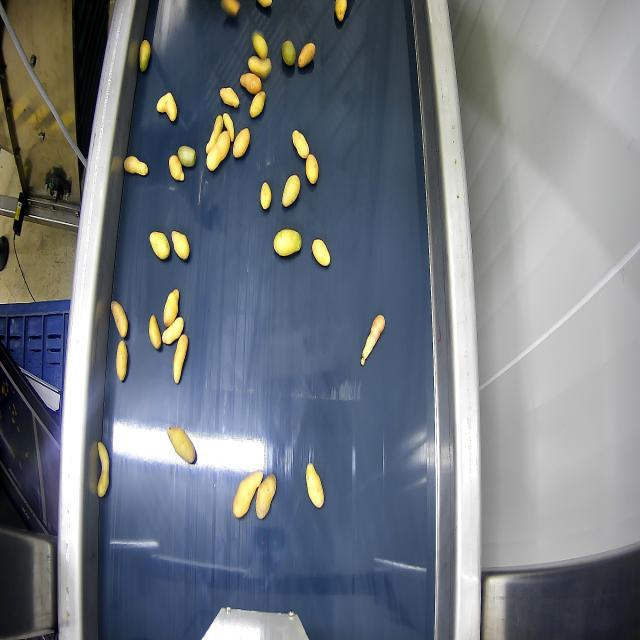Baby Potato: (233, 471, 263, 519), (361, 315, 384, 365), (168, 427, 195, 463), (206, 131, 230, 171), (256, 474, 276, 519), (306, 463, 323, 508), (98, 433, 110, 496), (206, 115, 224, 154), (274, 230, 301, 256), (173, 334, 187, 383), (111, 301, 128, 337), (163, 289, 179, 327), (282, 175, 300, 207), (162, 317, 183, 344), (149, 232, 170, 259), (157, 93, 177, 121), (248, 56, 271, 79), (233, 128, 250, 158), (292, 130, 309, 159), (172, 231, 189, 260), (312, 239, 330, 266), (240, 72, 261, 95), (116, 340, 127, 381), (124, 156, 147, 175), (252, 32, 268, 59), (298, 43, 315, 68), (305, 154, 319, 184), (149, 315, 161, 349), (250, 91, 265, 118), (177, 145, 195, 167), (169, 155, 184, 181), (282, 40, 296, 67), (220, 88, 239, 107), (223, 113, 235, 142), (139, 40, 150, 71), (260, 182, 271, 210), (221, 0, 239, 16), (335, 0, 346, 22), (258, 0, 271, 7)
